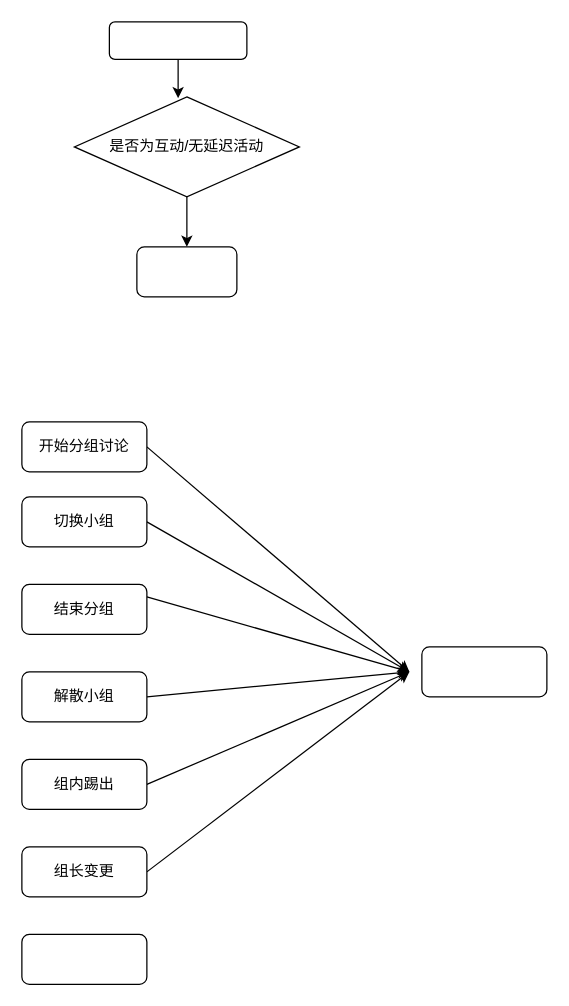
Image size: 569x1006. Some labels were removed from this diagram. Here are the shapes that lost their labels. From the top down, the box of each, then its label:
(108, 21, 247, 59): created
(136, 246, 237, 297): 提示 文案
(421, 646, 547, 697): 提示集合 gobackHome
(21, 933, 147, 984): 结束直播
